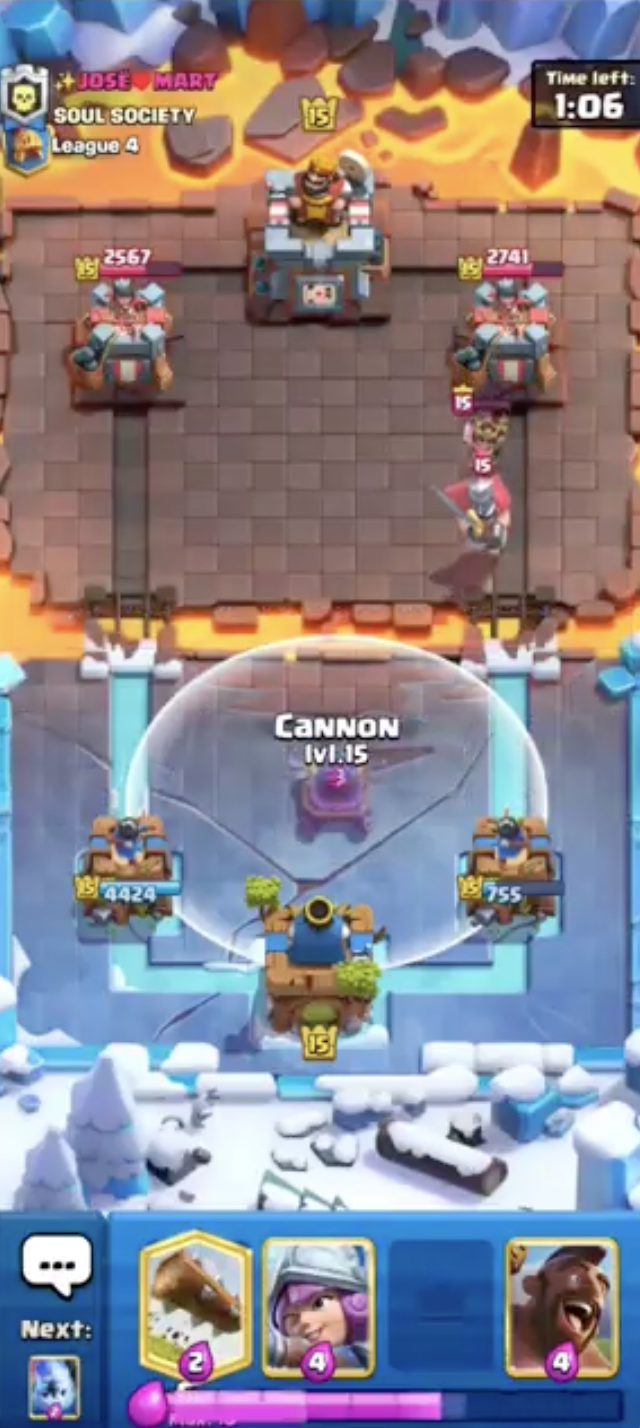cannon: (275, 718, 398, 845)
